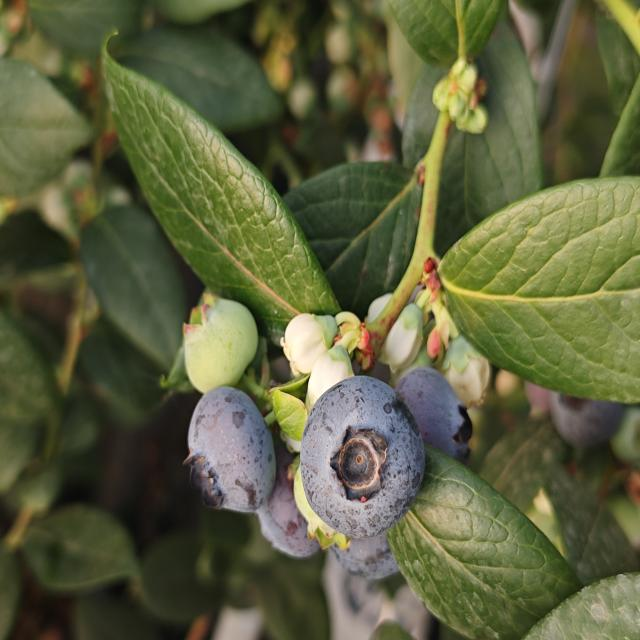ripe: (298, 373, 427, 542), (182, 384, 278, 517), (392, 364, 475, 466)
